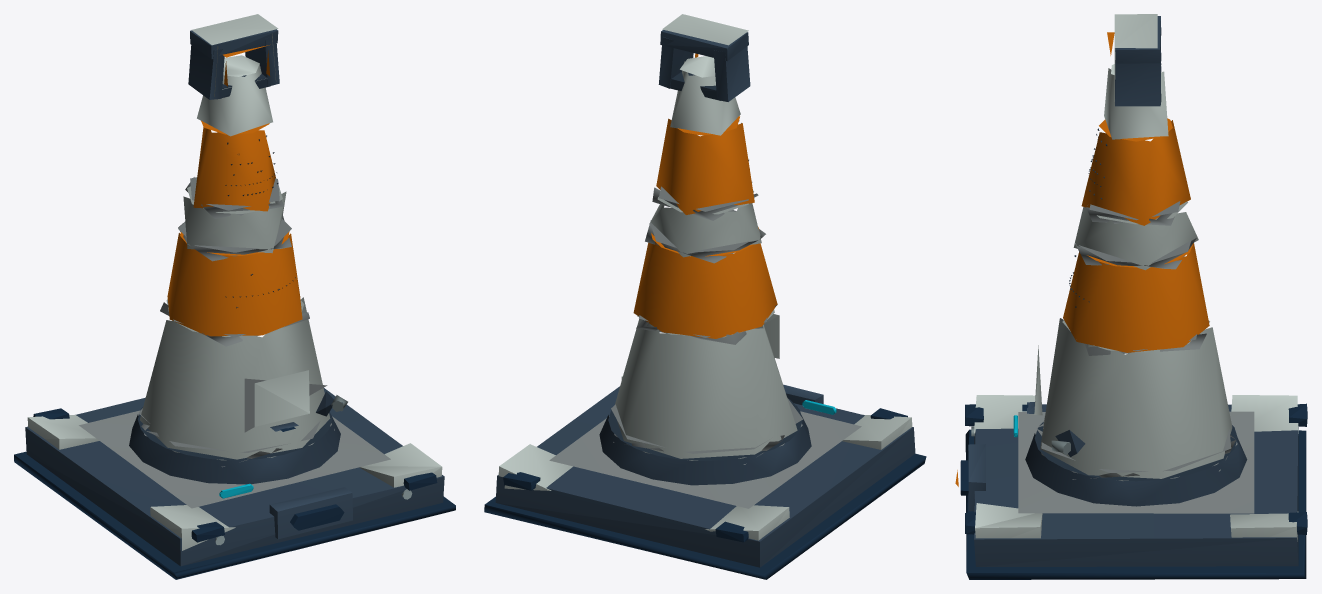
The picture shows the model from 3 angles, left to right: view 1: azimuth 30°, elevation 25°; view 2: azimuth 150°, elevation 25°; view 3: azimuth 270°, elevation 25°; orthographic projection. The views are drawn at different scales.
Visible parts, largest first — view 1: corps__gris_clair2, corps__bleu_nuit2, corps__lum_orange, corps__gris_clair, corps__bleu_nuit; view 2: corps__gris_clair2, corps__bleu_nuit2, corps__lum_orange, corps__gris_clair, corps__bleu_nuit; view 3: corps__gris_clair2, corps__bleu_nuit2, corps__lum_orange, corps__gris_clair, corps__bleu_nuit.
Part boxes in pixels (bbox=[...]): corps__gris_clair2: bbox=[27, 14, 442, 550]; corps__bleu_nuit2: bbox=[25, 29, 444, 566]; corps__lum_orange: bbox=[167, 45, 302, 336]; corps__gris_clair: bbox=[79, 177, 390, 508]; corps__bleu_nuit: bbox=[14, 408, 455, 579]; corps__gris_clair2: bbox=[498, 14, 912, 540]; corps__bleu_nuit2: bbox=[495, 30, 915, 567]; corps__lum_orange: bbox=[633, 53, 777, 338]; corps__gris_clair: bbox=[549, 182, 861, 508]; corps__bleu_nuit: bbox=[484, 408, 926, 579]; corps__gris_clair2: bbox=[974, 14, 1298, 541]; corps__bleu_nuit2: bbox=[968, 16, 1298, 566]; corps__lum_orange: bbox=[955, 32, 1209, 486]; corps__gris_clair: bbox=[1018, 201, 1254, 513]; corps__bleu_nuit: bbox=[960, 403, 1307, 579].
Size of the model in its own units: 0.3157 by 0.4907 by 0.3271.
